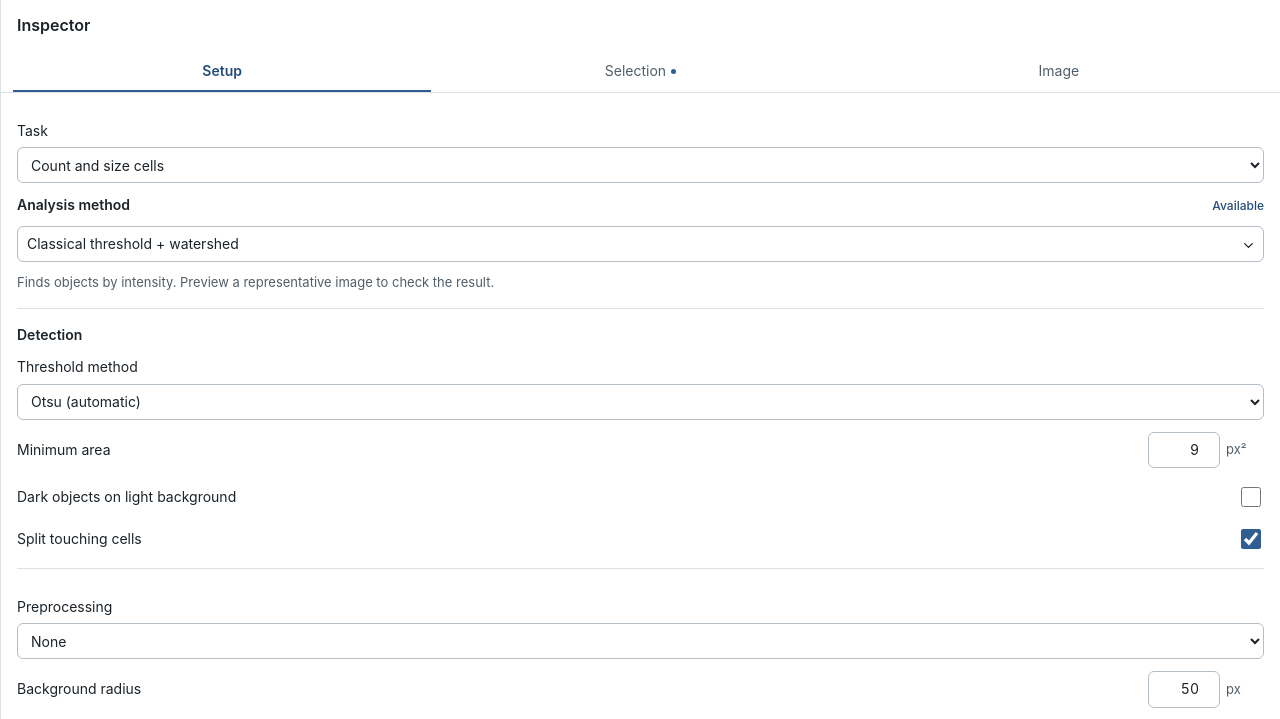
Test case: research workbench interaction contracts › keeps selection and source context separate without changing analysis settings
The width and height of the screenshot is (1280, 719).
Expected: the dropdown named "Segmentation model" is shown, [17, 226, 1264, 262]
Expected: the text "object-7" is not shown
Click the button "Selection" at (640, 72), box [431, 52, 850, 92]
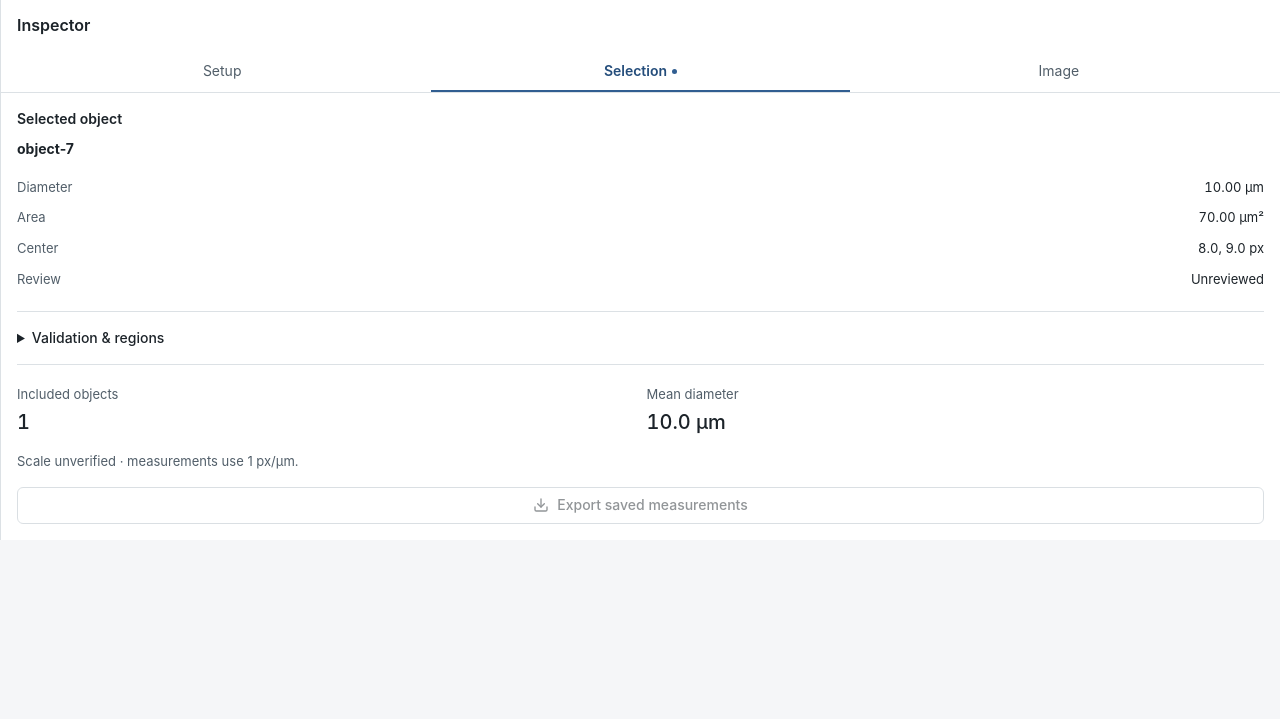
Expected: the text "object-7" is shown, [17, 140, 74, 157]
Click the button "Image" at (1059, 72), box [850, 52, 1268, 92]
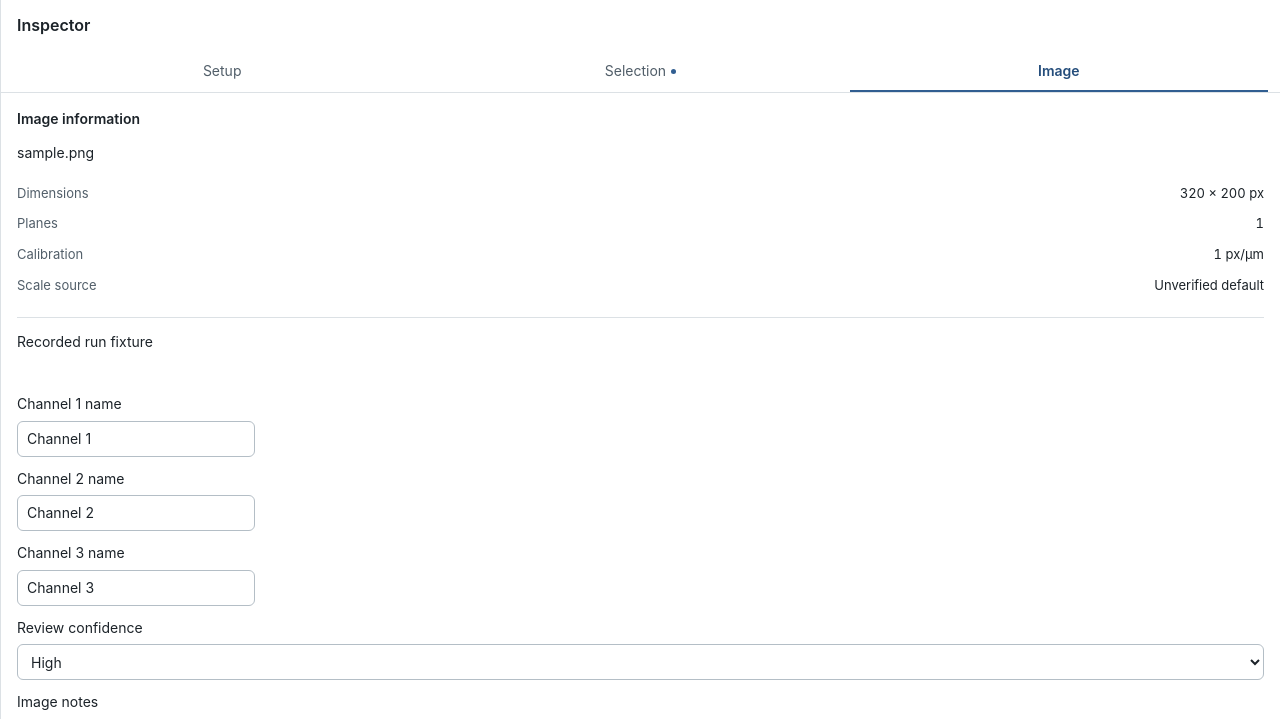
Expected: the text "Recorded run fixture" is shown, [17, 333, 153, 350]
Expected: the text "Unverified default" is shown, [1154, 276, 1264, 295]
